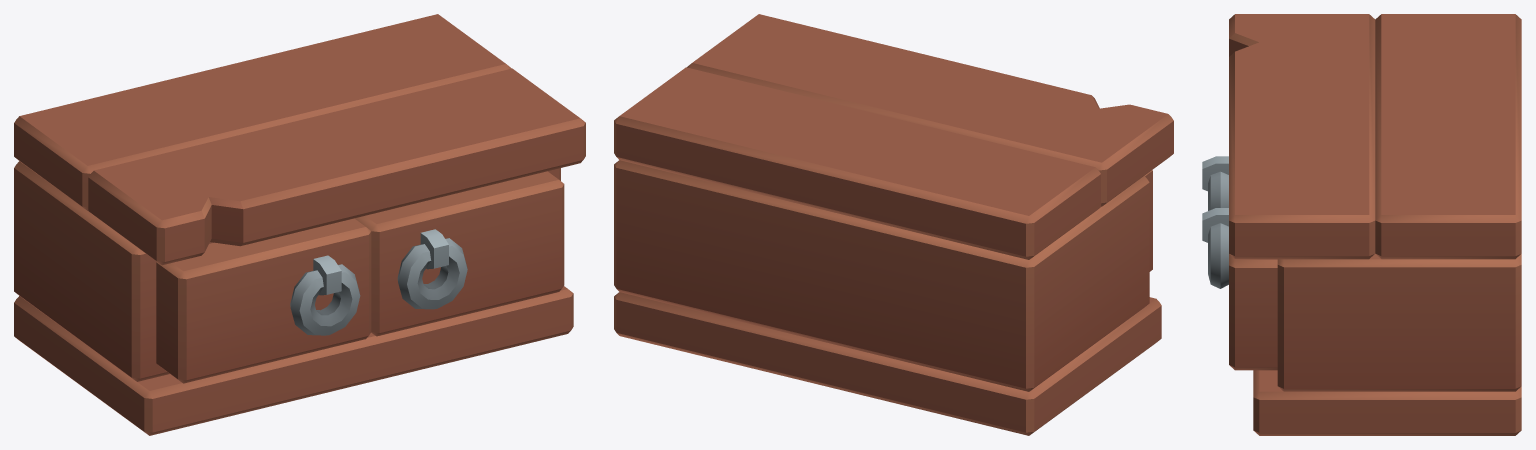
The model's file is bar_straight_C.glb.
3 renders of one model, left to right at view 1: azimuth 30°, elevation 25°; view 2: azimuth 150°, elevation 25°; view 3: azimuth 270°, elevation 25°, orthographic. The views are drawn at different scales.
Visible parts, largest first — view 1: bar_straight_C; view 2: bar_straight_C; view 3: bar_straight_C.
Boxes of the visible parts, bbox=[...] form: bar_straight_C: bbox=[14, 14, 585, 435]; bar_straight_C: bbox=[614, 14, 1173, 435]; bar_straight_C: bbox=[1202, 14, 1521, 435].
Size of the model in its own units: 2 by 1 by 1.31.
Materials: 1 (1 with a texture image).
